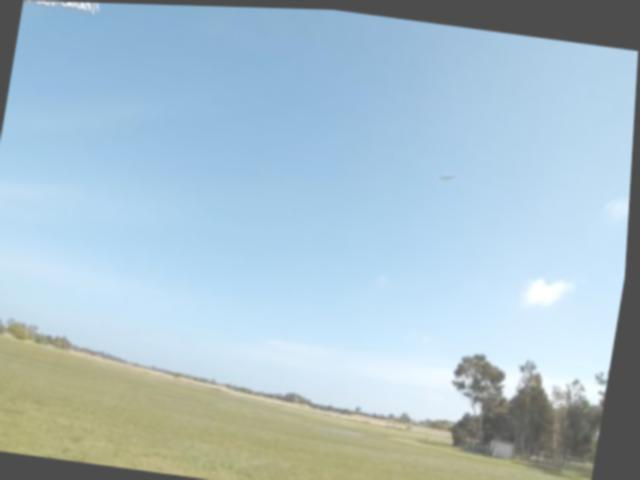uav: (439, 161, 462, 185)
